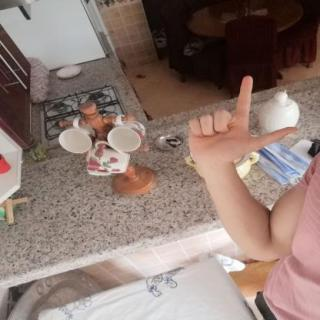LAAM: (181, 72, 304, 171)
